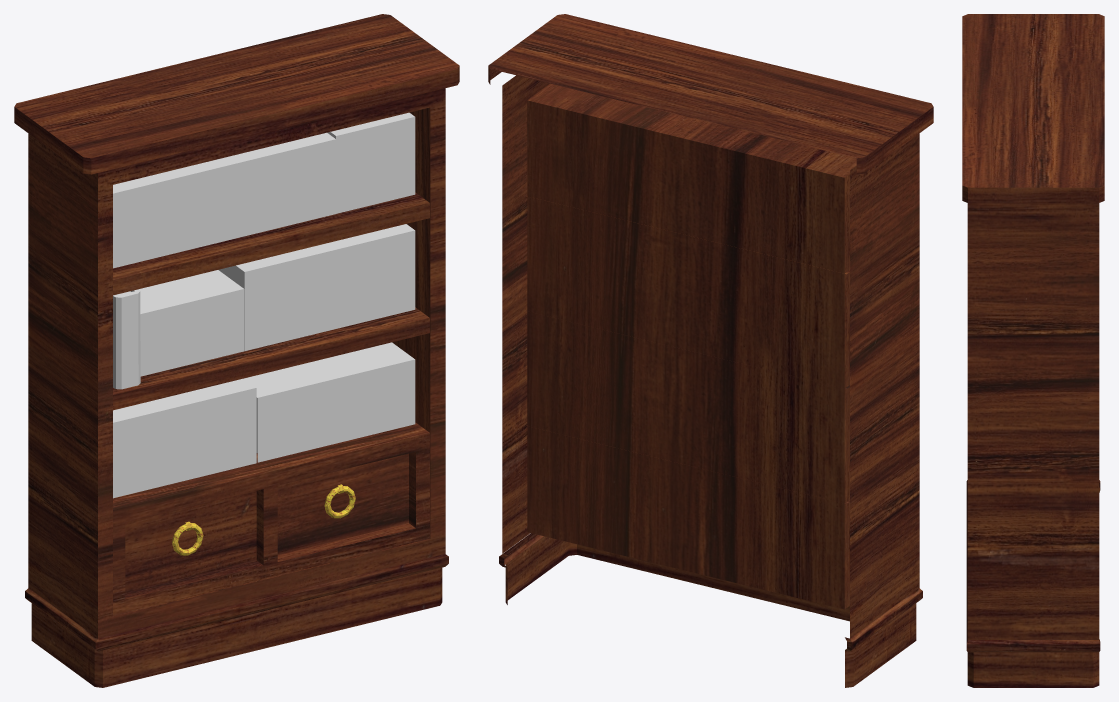
Rendered from Estanteria_4.fbx.
3 views of the same model, side by side, from view 1: azimuth 30°, elevation 25°; view 2: azimuth 150°, elevation 25°; view 3: azimuth 270°, elevation 25° (orthographic). The views are drawn at different scales.
Parts seen in each view (by area): view 1: Plane.366; view 2: Plane.366; view 3: Plane.366.
Part boxes in pixels (left/top/right/bottom): Plane.366: left=14, top=14, right=459, bottom=687; Plane.366: left=488, top=14, right=933, bottom=687; Plane.366: left=962, top=14, right=1104, bottom=687.
Size of the model in its own units: 168 by 229 by 58.21.
